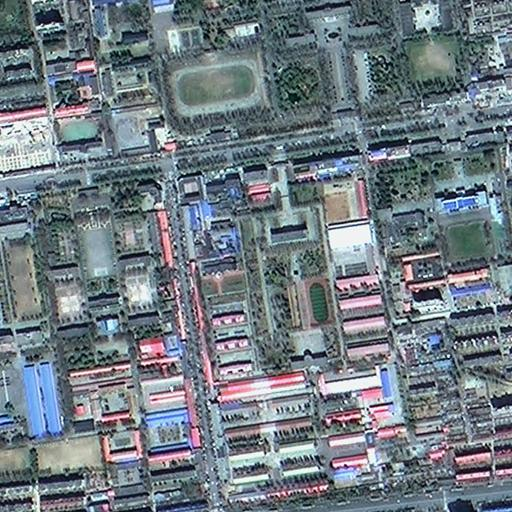school: (56, 113, 106, 158)
